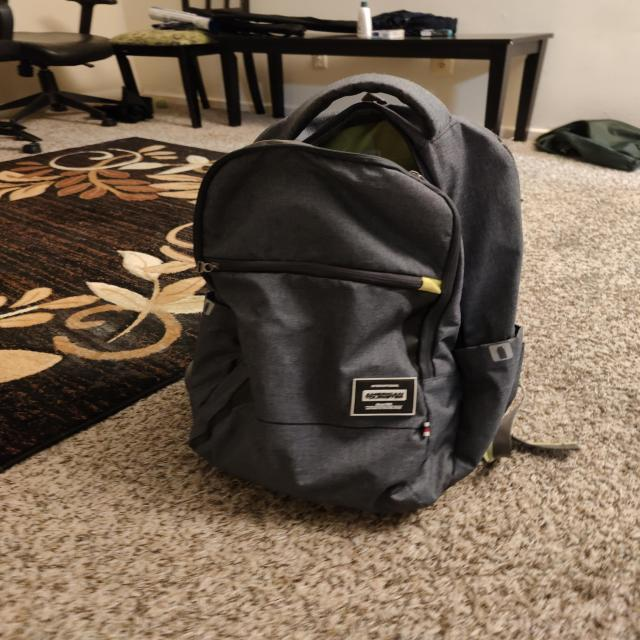bag: (211, 80, 530, 529)
